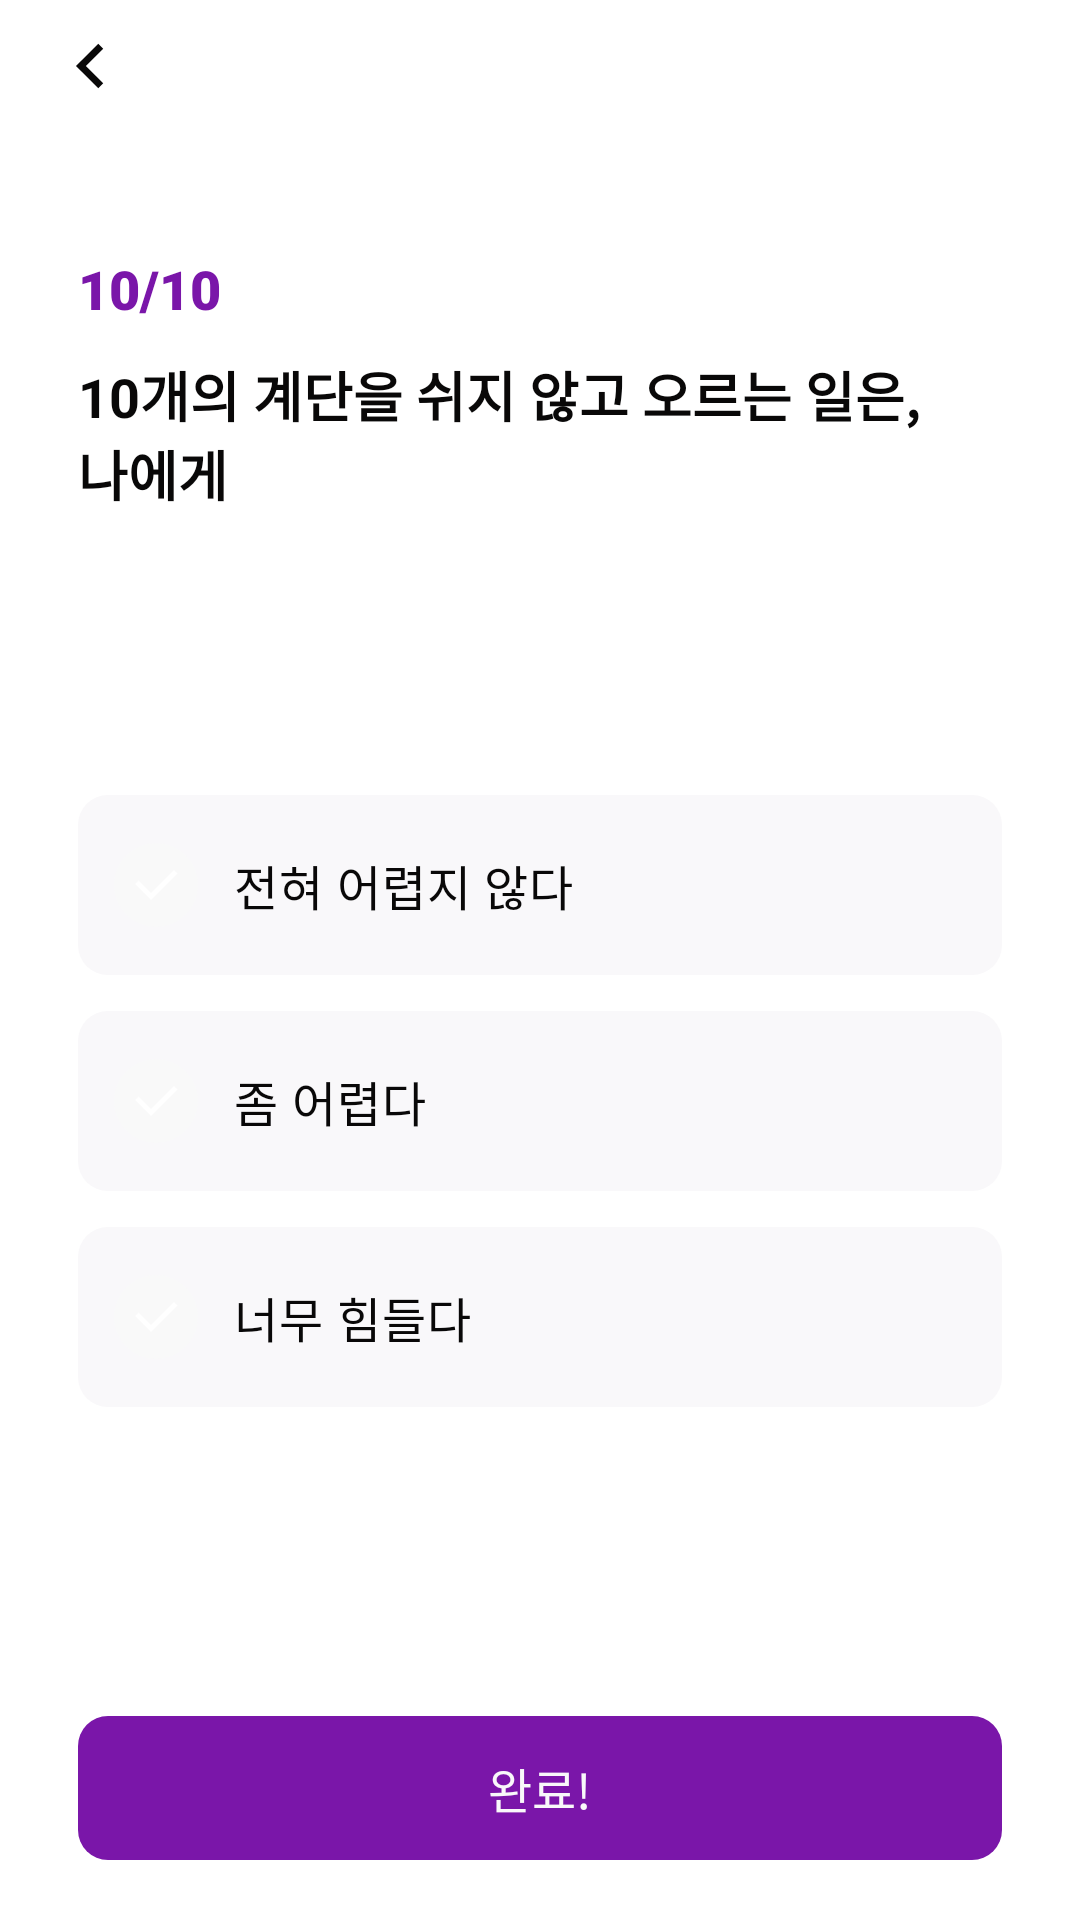

Locate icon controls on the screen. Image size 1080×1920, boxes as [x1=x1, y1=y1, x2=x2, y2=y2].
arrow: [x1=76, y1=44, x2=103, y2=88]
